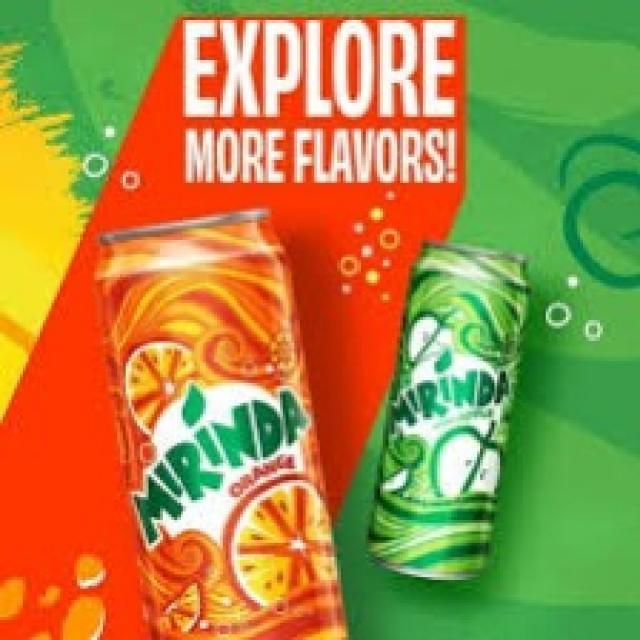metel: (93, 218, 351, 640), (370, 236, 525, 590)
